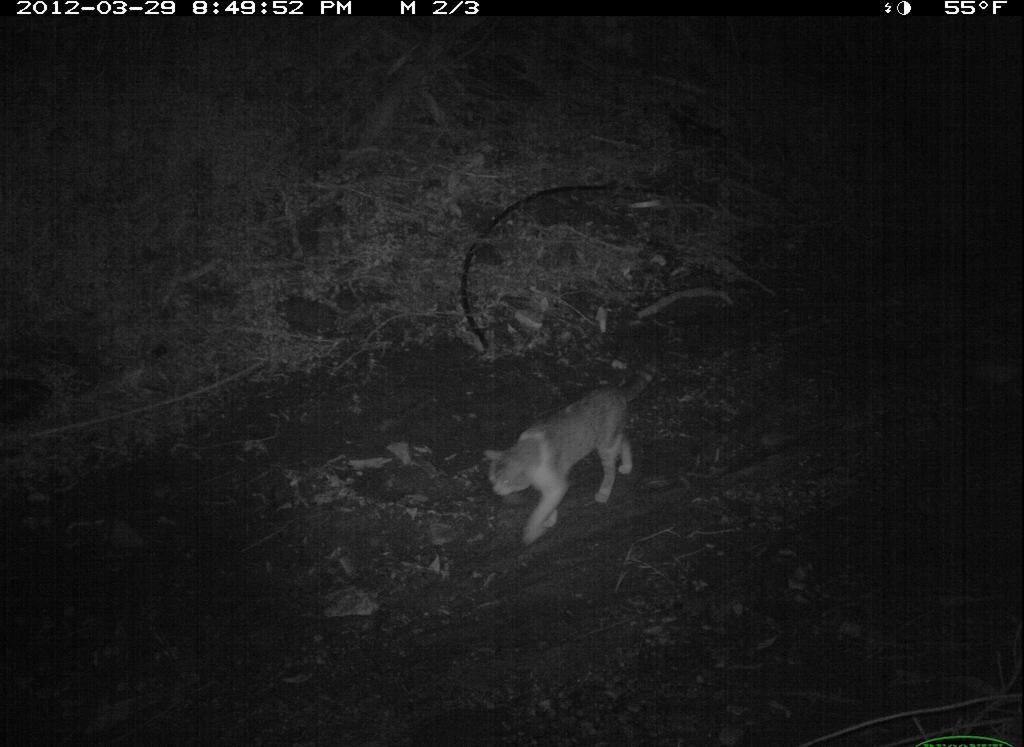cat: (472, 340, 684, 564)
